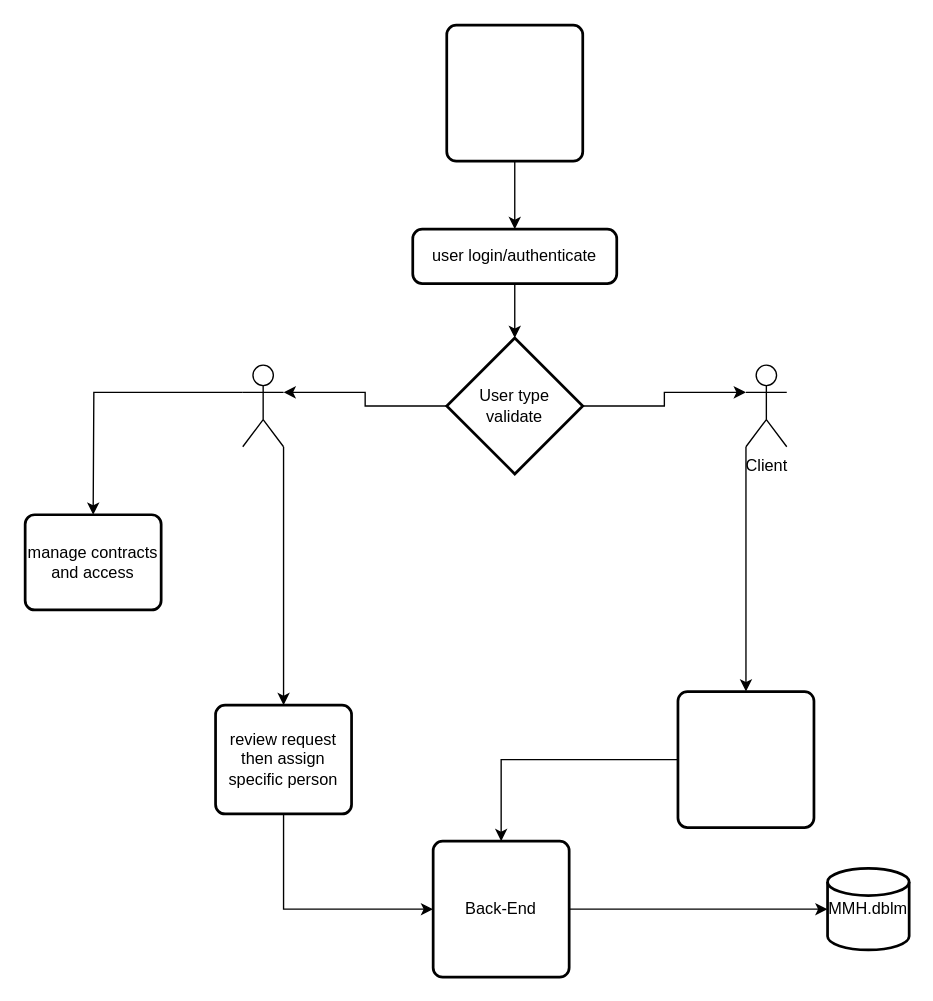
This 933x1001 diagram has some shape labels left out. Each missing label, with the centre of its shape:
"Admin" belongs at pixel 262 405.
"Front-End" belongs at pixel 514 92.
"Log a complain/Request" belongs at pixel 745 759.
